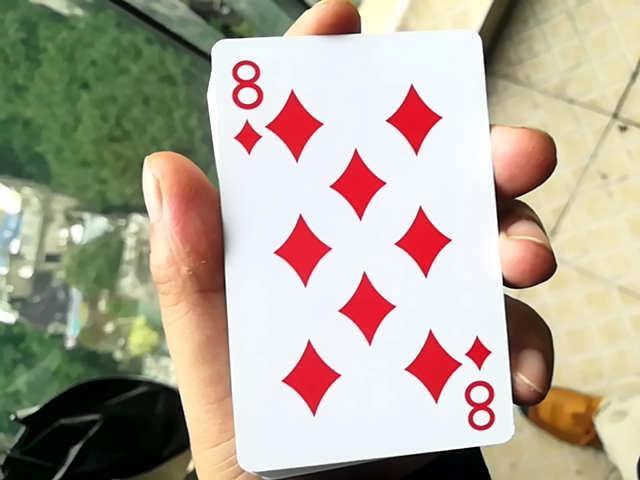fk 8: (195, 12, 507, 467)
